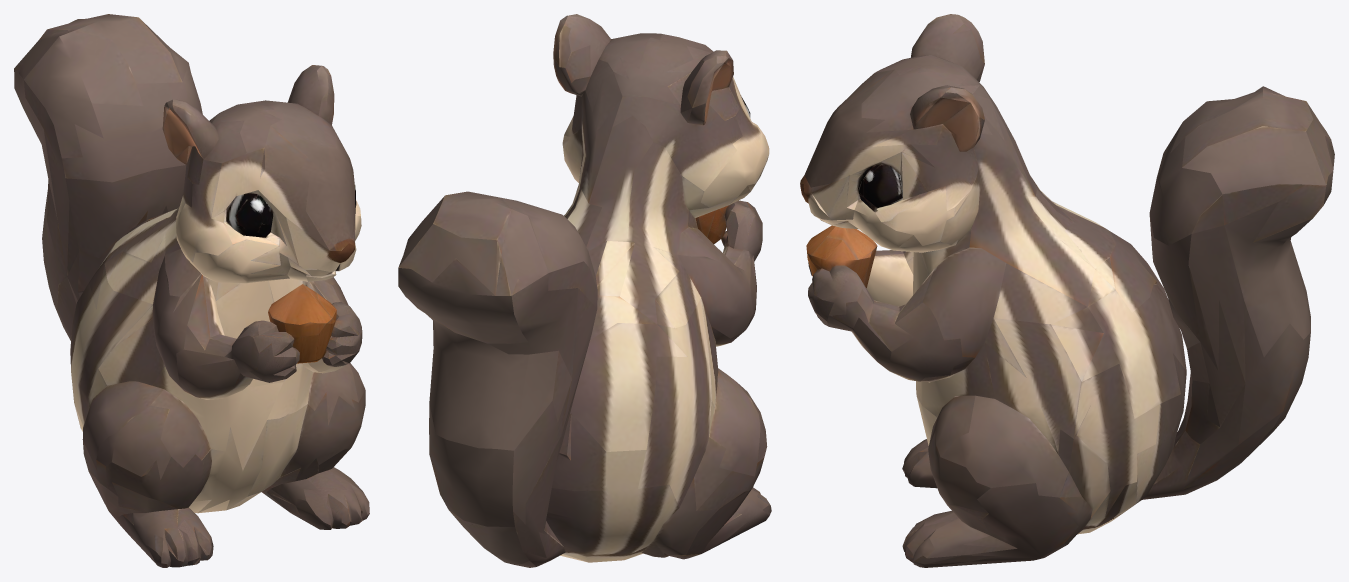
Rendered from squirrel.glb.
3 renders of one model, left to right at view 1: azimuth 30°, elevation 25°; view 2: azimuth 150°, elevation 25°; view 3: azimuth 270°, elevation 25°, orthographic. The views are drawn at different scales.
Bounding box in the file's own units: 1.11 × 1.83 × 1.9.
Materials: 1 (1 with a texture image).
